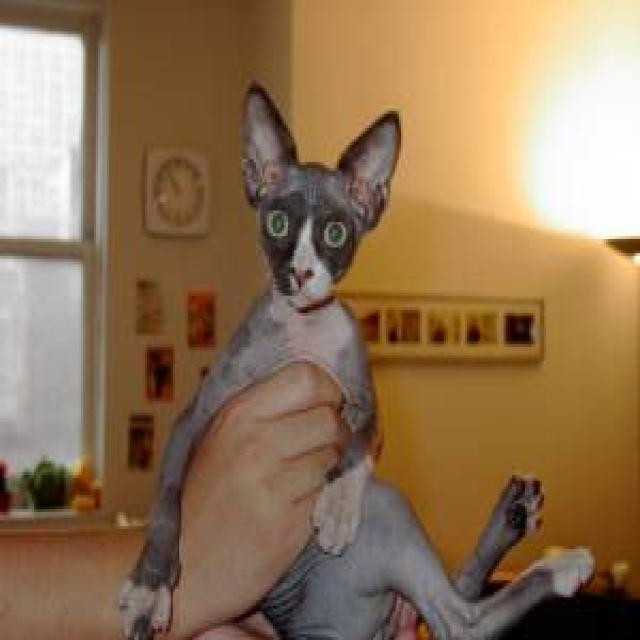Sphynx: (235, 74, 403, 324)
